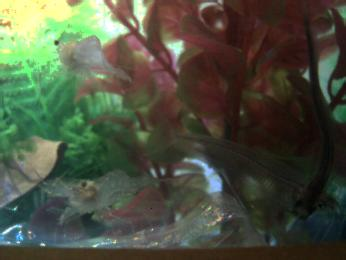glassfish: (147, 117, 340, 214), (295, 8, 346, 158)
siberian prawn: (52, 167, 181, 228), (53, 36, 132, 86)
